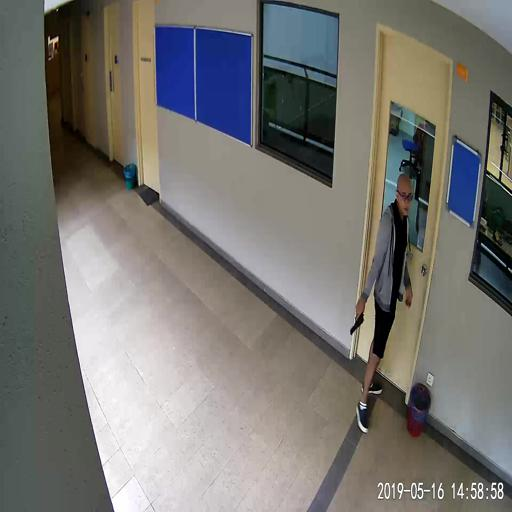pistol: (350, 304, 364, 334)
